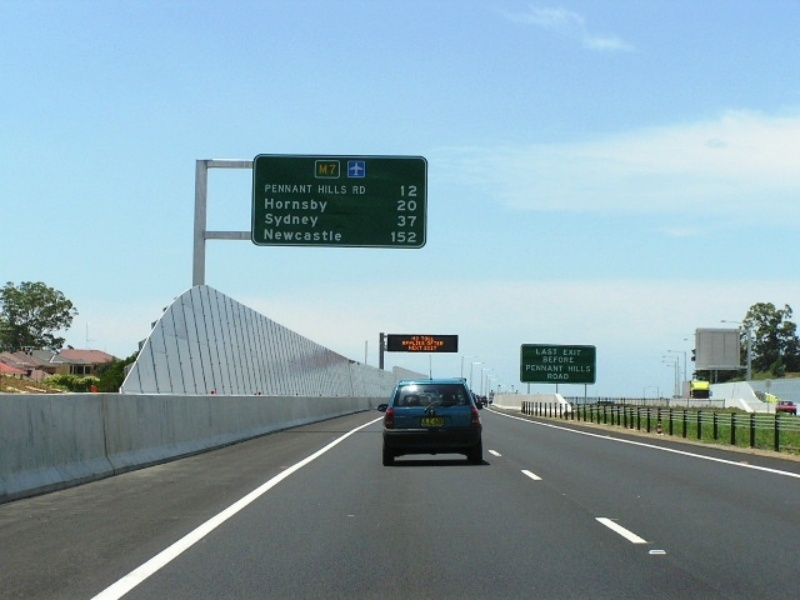text: (401, 333, 416, 354), (417, 333, 432, 354), (433, 333, 448, 354), (401, 198, 416, 213), (273, 198, 288, 213), (289, 198, 304, 213), (305, 198, 320, 213), (273, 214, 288, 228), (289, 214, 304, 228), (273, 228, 288, 242), (289, 228, 304, 242), (305, 228, 320, 242), (321, 228, 336, 242), (305, 214, 319, 228), (321, 164, 336, 177), (401, 231, 416, 244), (401, 216, 417, 228), (401, 186, 416, 198), (321, 184, 336, 194), (273, 184, 288, 194), (289, 184, 304, 194), (389, 231, 400, 244), (353, 186, 367, 196), (263, 198, 272, 213), (263, 228, 272, 242), (321, 198, 329, 213), (529, 364, 544, 372), (545, 364, 560, 372), (264, 214, 272, 228), (577, 365, 591, 373), (337, 184, 348, 194), (545, 356, 560, 363), (545, 348, 558, 356), (563, 349, 576, 357), (547, 373, 560, 381), (561, 356, 574, 363), (305, 184, 314, 194), (449, 333, 453, 354), (264, 184, 272, 194), (337, 228, 342, 242), (536, 348, 544, 356), (568, 365, 576, 373), (561, 373, 569, 381), (577, 349, 583, 357), (397, 198, 400, 213), (398, 333, 400, 354), (318, 164, 320, 177), (417, 231, 419, 244), (398, 216, 400, 228), (417, 186, 419, 198), (318, 184, 320, 194), (526, 364, 528, 372), (561, 364, 563, 372), (417, 198, 418, 213), (542, 356, 544, 363), (337, 164, 338, 177)
